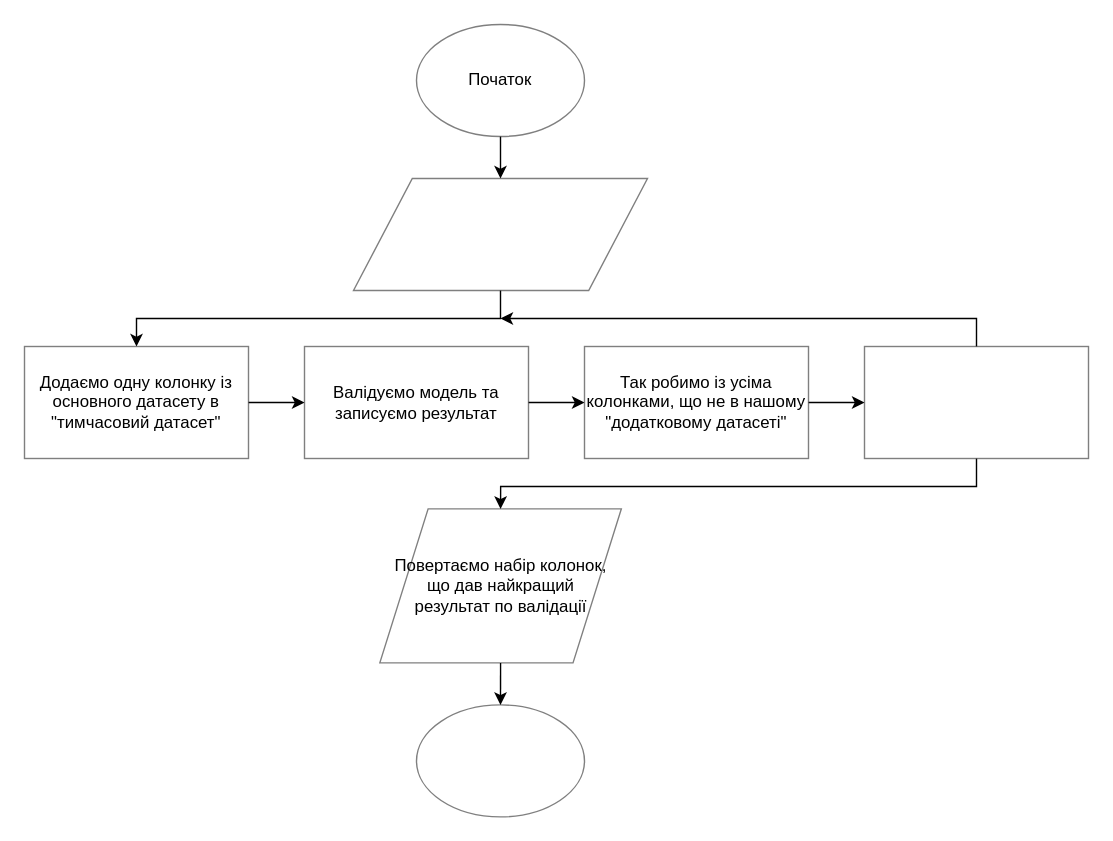
Some shapes in this 1113 by 841 pixel diagram are drawn without their labels. Here are the shapes that lost their labels. From the top down, the centre of each, then its label:
[500,233]: На вході маємо пустий "додатковий датасет" без колонок
[975,401]: Колонку, що дала найбільший приріст по валідації, додаємо в "додатковий датасет"
[499,760]: Кінець
